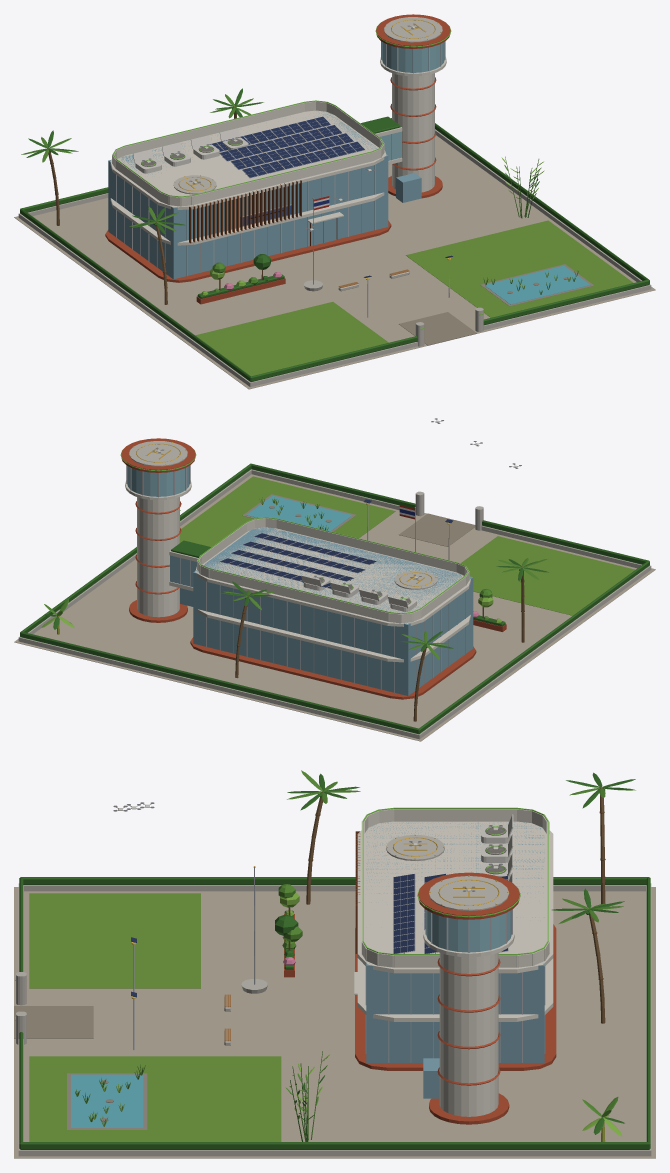
The model's file is police.glb.
The picture shows the model from 3 angles, top to bottom: view 1: azimuth 30°, elevation 25°; view 2: azimuth 150°, elevation 25°; view 3: azimuth 270°, elevation 25°; orthographic projection. The views are drawn at different scales.
Parts seen in each view (by area): view 1: body, windows; view 2: body, windows; view 3: body, windows.
Part boxes in pixels (bbox=[...]): body: bbox=[14, 14, 655, 389]; windows: bbox=[112, 17, 483, 329]; body: bbox=[14, 418, 655, 741]; windows: bbox=[120, 441, 468, 614]; body: bbox=[14, 770, 655, 1158]; windows: bbox=[15, 807, 548, 1020].
Bounding box in the file's own units: 49.19 × 18.07 × 47.9.
